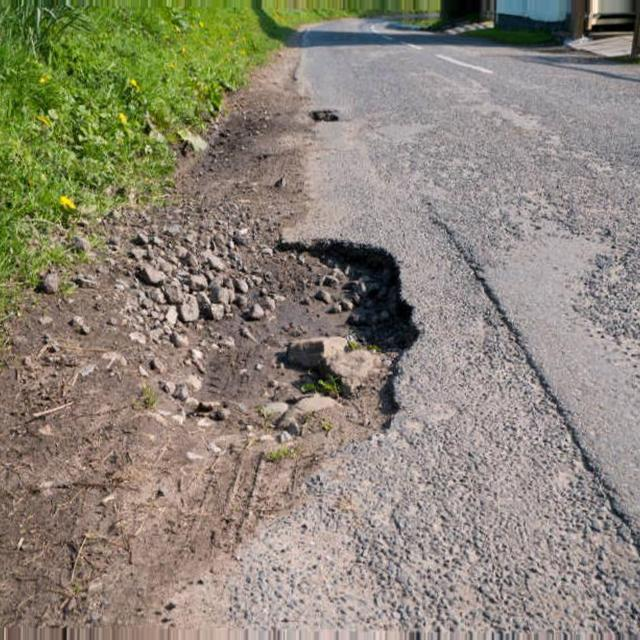Pinggir: (243, 236, 427, 495)
